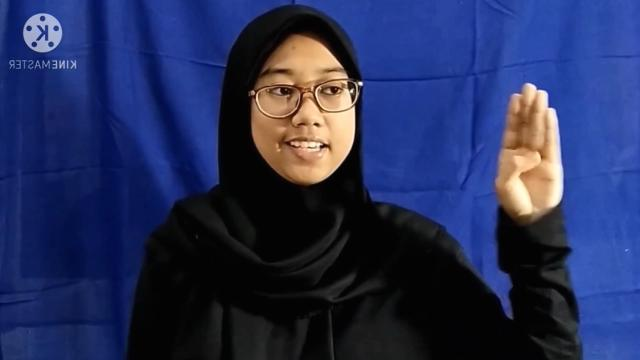B: (493, 84, 565, 226)
